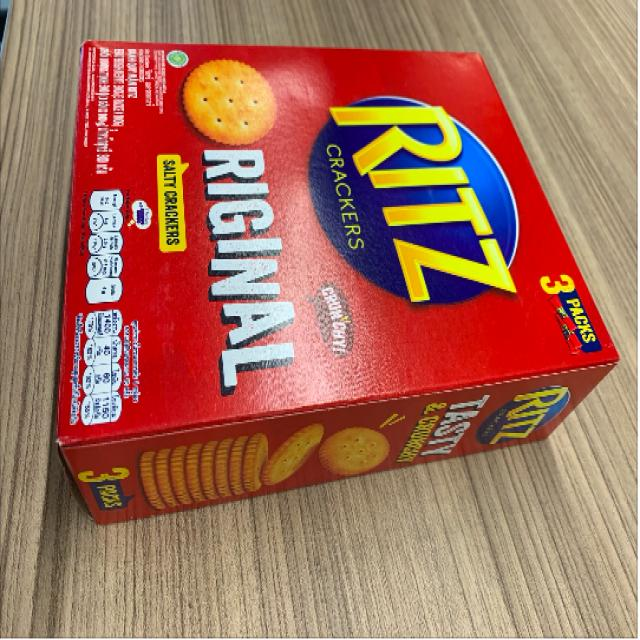object_name: (70, 43, 595, 462)
